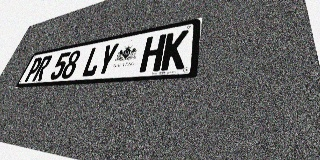5: (49, 52, 71, 80)
8: (60, 49, 83, 79)
H: (139, 34, 167, 73)
K: (160, 30, 189, 71)
L: (80, 45, 105, 77)
P: (23, 57, 44, 82)
R: (32, 55, 53, 81)
Y: (95, 42, 120, 76)
